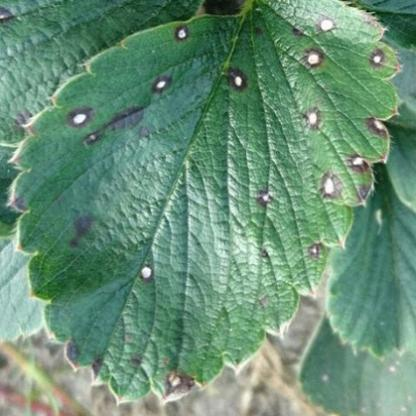Strawberry_Leaf_Spot: (7, 0, 404, 407), (297, 310, 415, 415)
